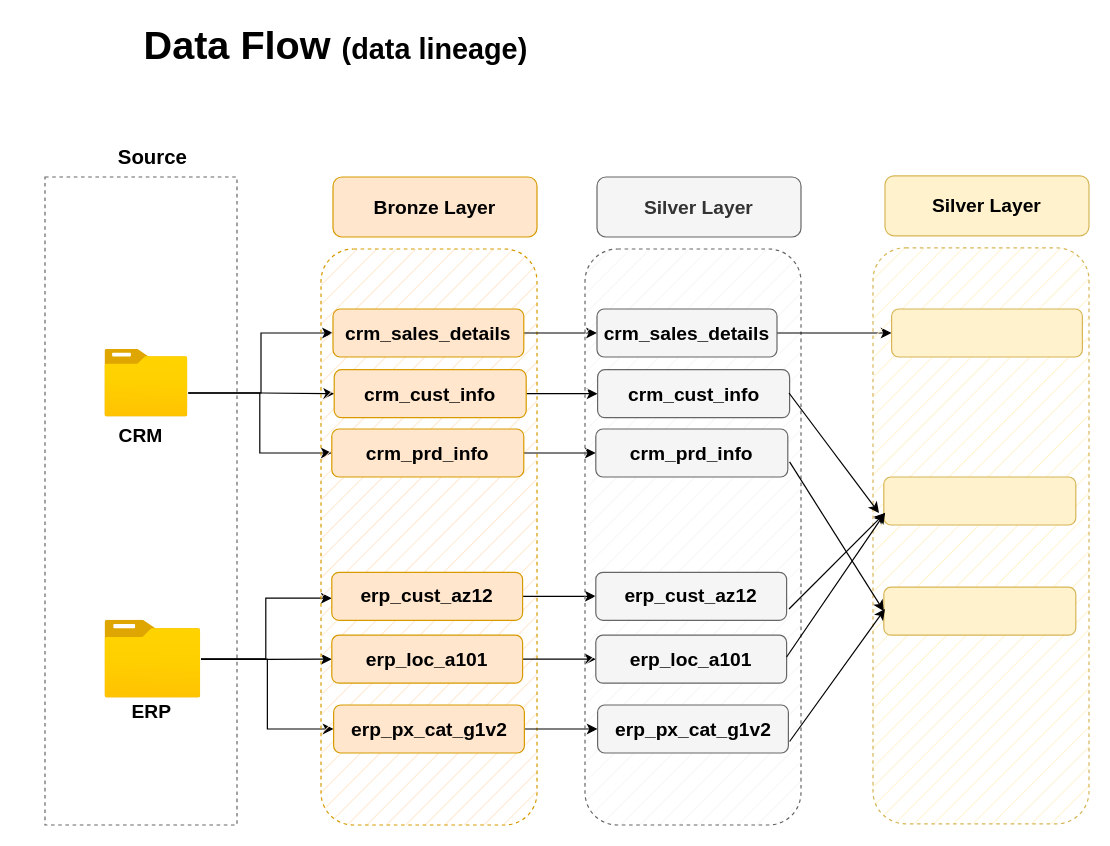
Some shapes in this 1110 by 846 pixel diagram are drawn without their labels. Each missing label, with the centre of its shape:
"dim_customers" goes at (x=979, y=500).
"dim_products" goes at (x=979, y=610).
"fact_sales" goes at (x=986, y=332).
